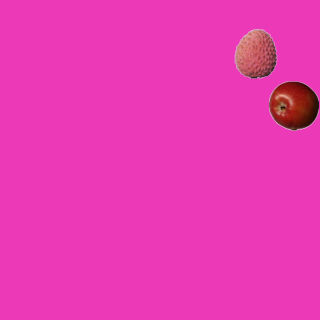Apple Braeburn: (268, 80, 318, 130)
Lychee: (230, 28, 280, 78)
